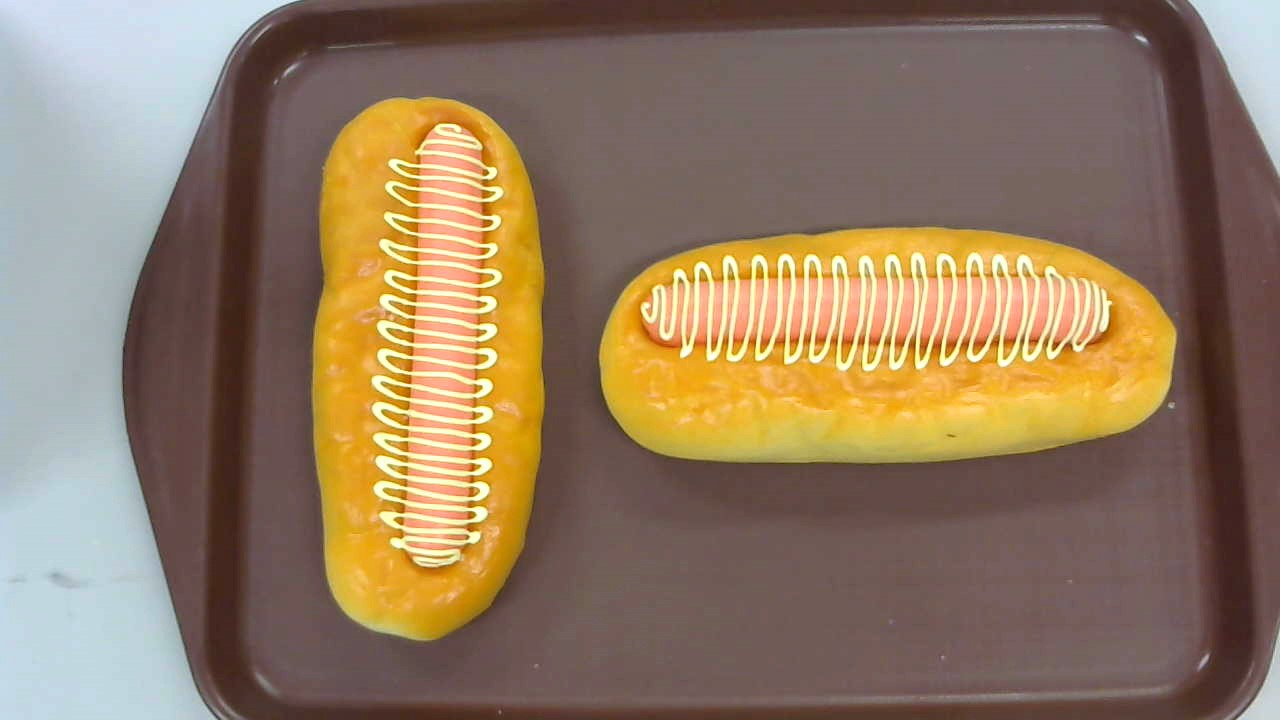hot dog: (599, 223, 1177, 464), (311, 94, 546, 643)
